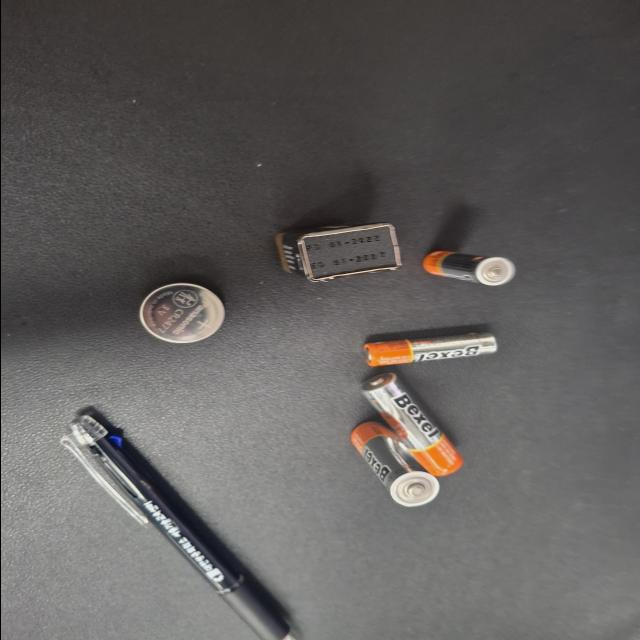9V: (84, 180, 162, 274)
AA: (284, 133, 422, 209), (349, 151, 462, 217)
AAA: (232, 108, 276, 208), (121, 94, 168, 163)
COIN: (164, 312, 244, 376)
